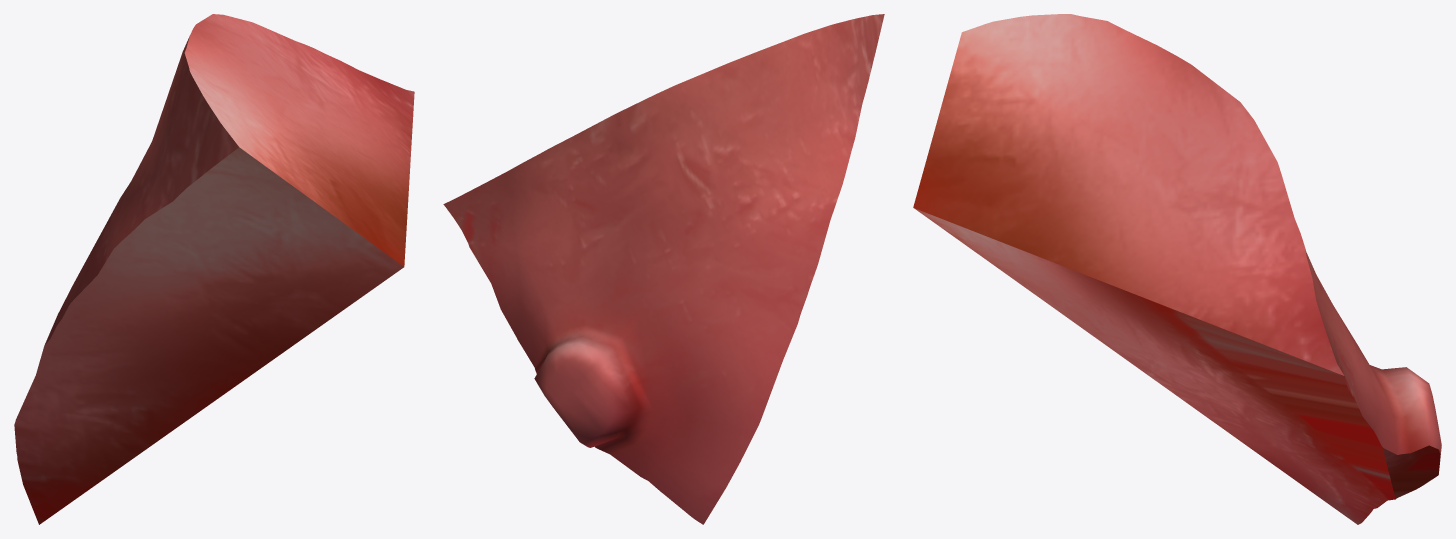
The model's file is SM_HeartPiece_19_.FBX.
3 views of the same model, side by side, from view 1: azimuth 30°, elevation 25°; view 2: azimuth 150°, elevation 25°; view 3: azimuth 270°, elevation 25° (orthographic). The views are drawn at different scales.
Parts seen in each view (by area): view 1: SM_HeartPiece_19_; view 2: SM_HeartPiece_19_; view 3: SM_HeartPiece_19_.
Part boxes in pixels (x1,y1,x2,y2): SM_HeartPiece_19_: (14, 14, 414, 524); SM_HeartPiece_19_: (443, 14, 884, 524); SM_HeartPiece_19_: (913, 14, 1441, 524).
Bounding box in the file's own units: 224 × 271 × 286.
